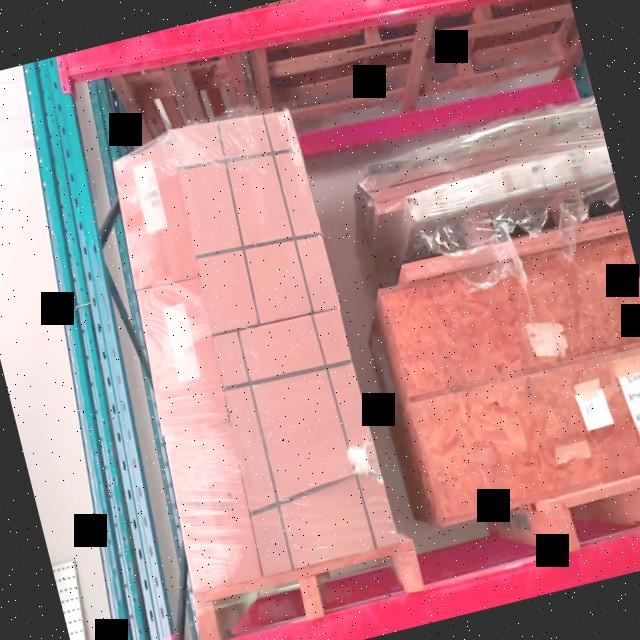box: (214, 306, 396, 572), (170, 111, 336, 330), (165, 422, 261, 590), (137, 278, 228, 432), (114, 149, 198, 286)
